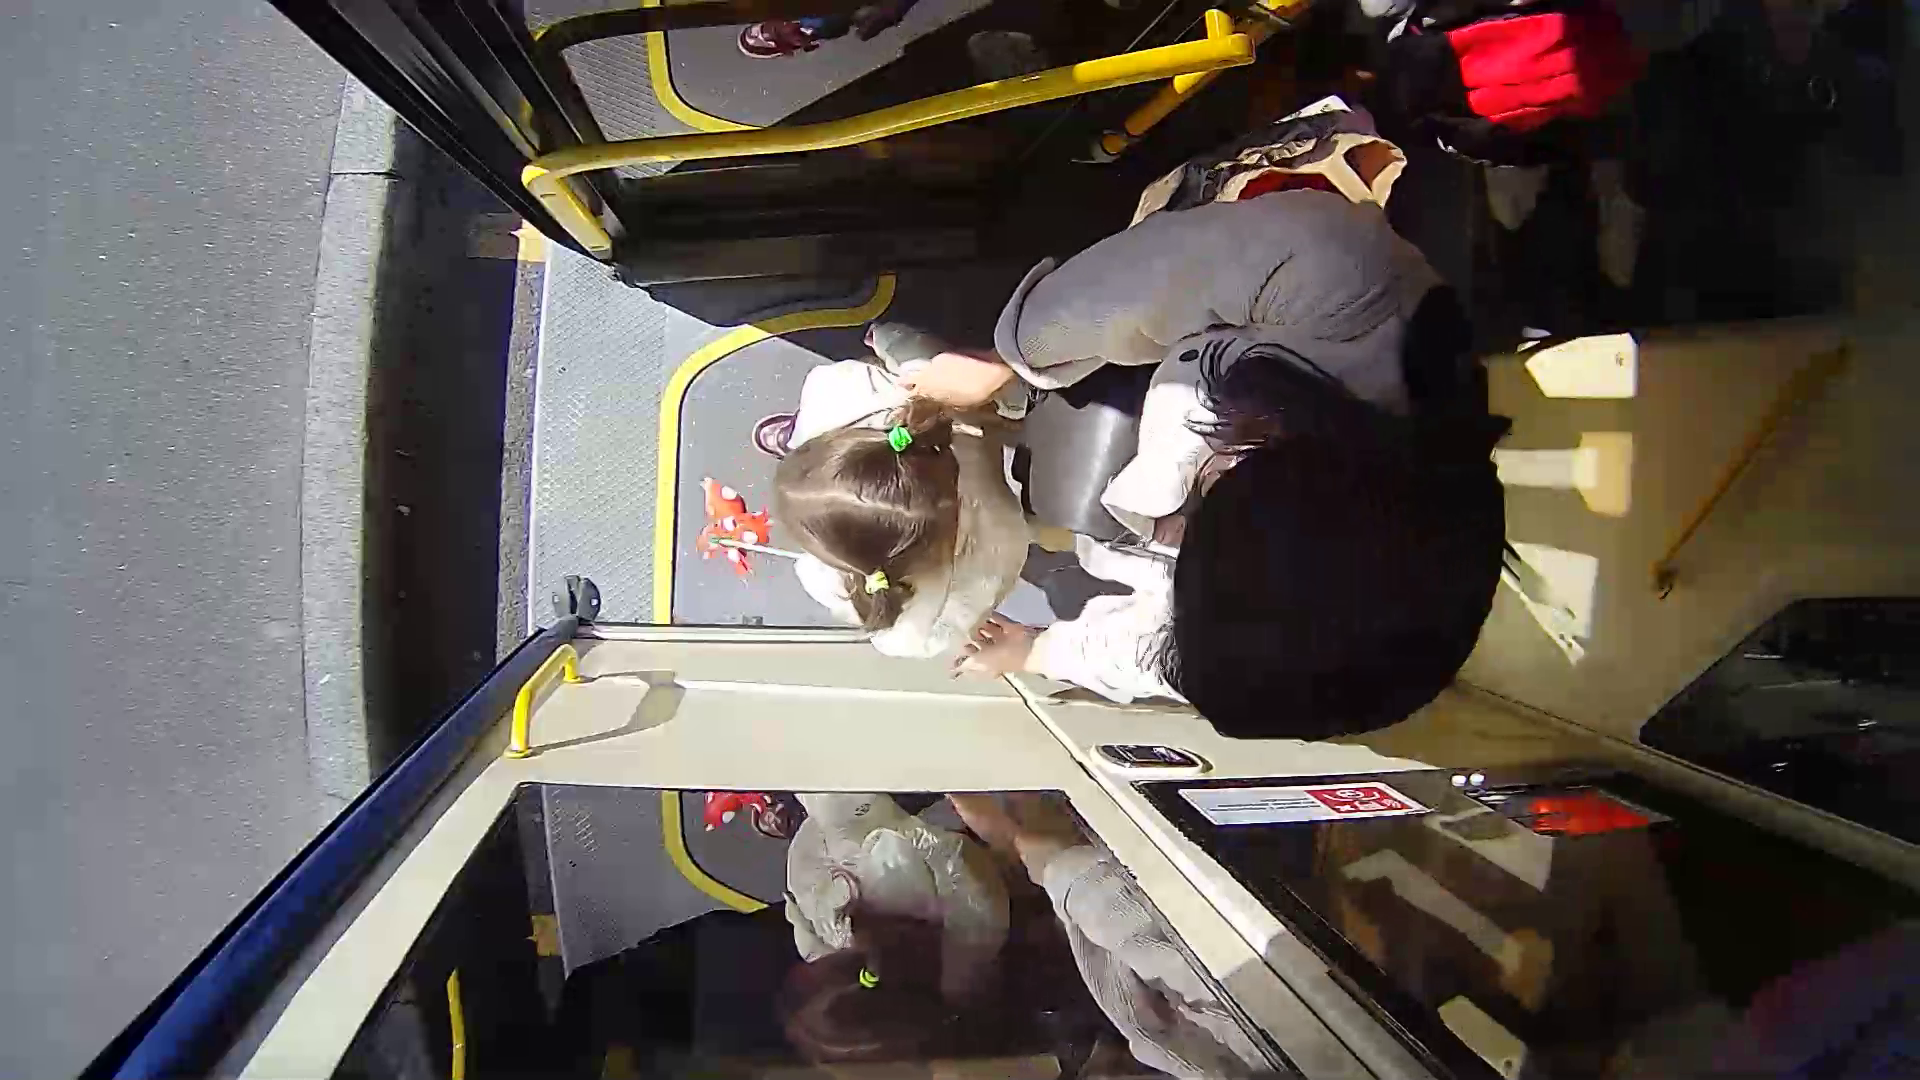person: (1057, 165, 1609, 744), (779, 227, 1052, 646)
